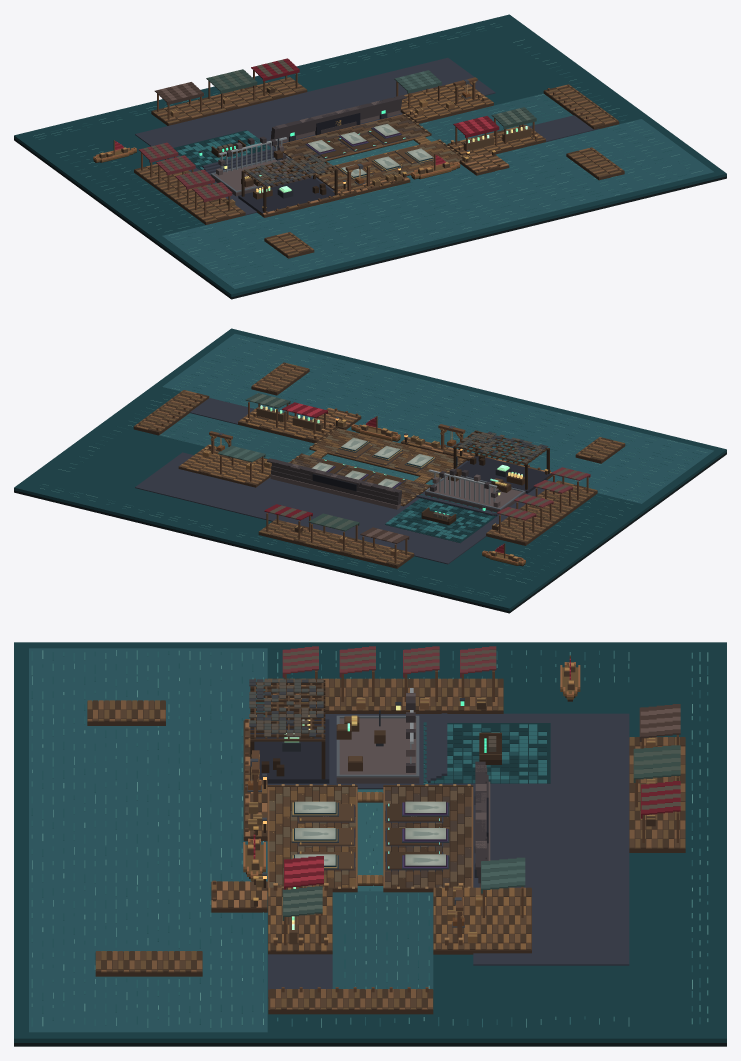
Rendered from black-market.glb.
3 renders of one model, top to bottom at view 1: azimuth 30°, elevation 25°; view 2: azimuth 150°, elevation 25°; view 3: azimuth 270°, elevation 25°, orthographic. The views are drawn at different scales.
Visible parts, largest first — view 1: South_Harbor_Water, 01_Harbor_Basin_Water, Harbor_Bank_Stone, West_Alchemy_Den, North_Timber_Cargo_Wharf, North_Quay_Warehouses, Landmark_BlackMarket_Auction, East_Tidal_Inlet_Water, West_Loading_Shelters, West_Canal_Dock, 03_Enemy_Cargo_Wharf, West_Loading_Pier (+17 smaller); view 2: 01_Harbor_Basin_Water, South_Harbor_Water, Harbor_Bank_Stone, West_Alchemy_Den, East_Tidal_Inlet_Water, West_Canal_Dock, Landmark_BlackMarket_Auction, North_Timber_Cargo_Wharf, West_Contraband_Vault, West_Loading_Pier, 02_Central_Wharf_Deck, 00_Harbor_Basin_Bedrock (+17 smaller); view 3: South_Harbor_Water, 01_Harbor_Basin_Water, Harbor_Bank_Stone, East_Tidal_Inlet_Water, West_Alchemy_Den, West_Canal_Dock, West_Loading_Pier, West_Contraband_Vault, East_Receiver_Wharf, 03_Enemy_Cargo_Wharf, 02_Central_Wharf_Deck, South_Outer_Mooring_Piers (+16 smaller).
Boxes of the visible parts, x1,y1,x2,y2 form: South_Harbor_Water: [162, 119, 713, 288]; 01_Harbor_Basin_Water: [14, 14, 726, 296]; Harbor_Bank_Stone: [135, 57, 599, 215]; West_Alchemy_Den: [238, 153, 338, 213]; North_Timber_Cargo_Wharf: [151, 77, 307, 125]; North_Quay_Warehouses: [154, 58, 299, 119]; Landmark_BlackMarket_Auction: [270, 95, 406, 143]; East_Tidal_Inlet_Water: [419, 93, 573, 144]; West_Loading_Shelters: [138, 142, 232, 217]; West_Canal_Dock: [173, 130, 277, 175]; 03_Enemy_Cargo_Wharf: [279, 114, 429, 165]; West_Loading_Pier: [134, 164, 245, 224]; 01_Harbor_Basin_Water: [14, 328, 726, 610]; South_Harbor_Water: [162, 334, 713, 503]; Harbor_Bank_Stone: [135, 398, 555, 564]; West_Alchemy_Den: [453, 430, 551, 493]; East_Tidal_Inlet_Water: [159, 413, 314, 462]; West_Canal_Dock: [385, 494, 498, 542]; Landmark_BlackMarket_Auction: [266, 458, 401, 509]; North_Timber_Cargo_Wharf: [258, 519, 414, 568]; West_Contraband_Vault: [425, 468, 525, 512]; West_Loading_Pier: [486, 480, 597, 545]; 02_Central_Wharf_Deck: [311, 428, 464, 479]; 00_Harbor_Basin_Bedrock: [14, 452, 726, 613]; South_Harbor_Water: [29, 648, 267, 1032]; 01_Harbor_Basin_Water: [14, 642, 726, 1042]; Harbor_Bank_Stone: [267, 713, 629, 998]; East_Tidal_Inlet_Water: [332, 891, 433, 989]; West_Alchemy_Den: [249, 678, 329, 783]; West_Canal_Dock: [423, 698, 550, 784]; West_Loading_Pier: [267, 678, 503, 713]; West_Contraband_Vault: [336, 688, 419, 783]; East_Receiver_Wharf: [433, 887, 531, 954]; 03_Enemy_Cargo_Wharf: [383, 787, 473, 887]; 02_Central_Wharf_Deck: [267, 787, 357, 887]; South_Outer_Mooring_Piers: [87, 700, 202, 976].
Bounding box in the file's own units: 50 × 3.91 × 38.
Materials: 60 (1 with a texture image).
